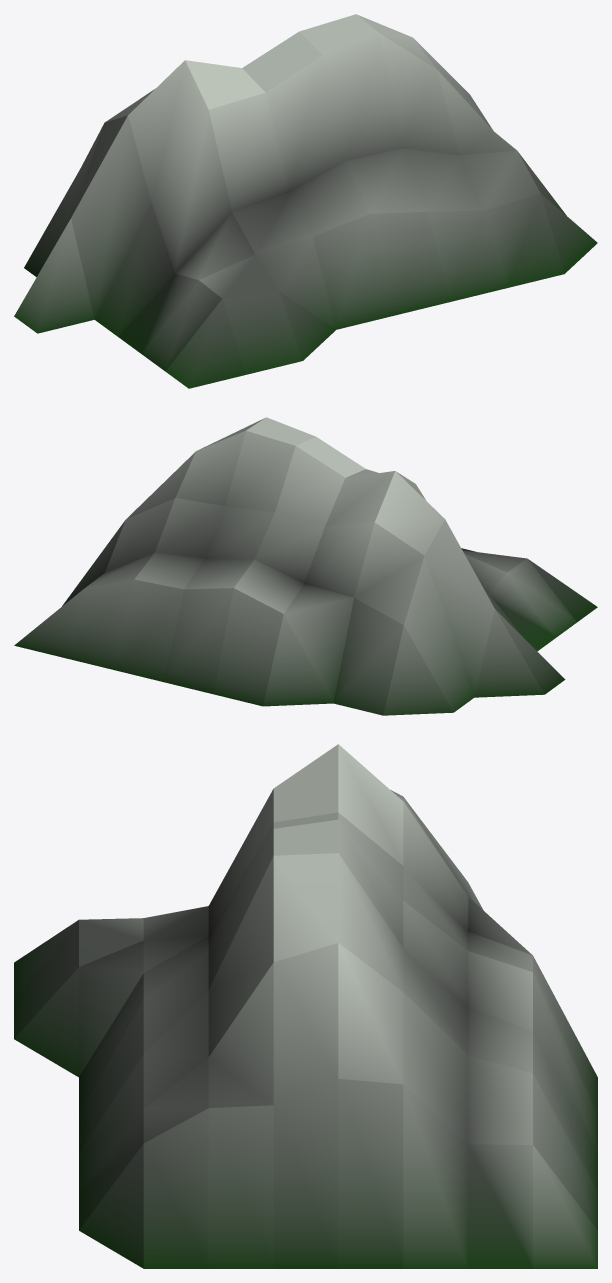
File: Mountain01.FBX
3 views of the same model, one above another, from view 1: azimuth 30°, elevation 25°; view 2: azimuth 150°, elevation 25°; view 3: azimuth 270°, elevation 25° (orthographic). The views are drawn at different scales.
Parts seen in each view (by area): view 1: Mountain; view 2: Mountain; view 3: Mountain.
Part boxes in pixels (x1,y1,x2,y2): Mountain: (14, 14, 597, 388); Mountain: (14, 417, 597, 715); Mountain: (14, 744, 597, 1268).
Bounding box in the file's own units: 34.41 × 14.02 × 24.65.
